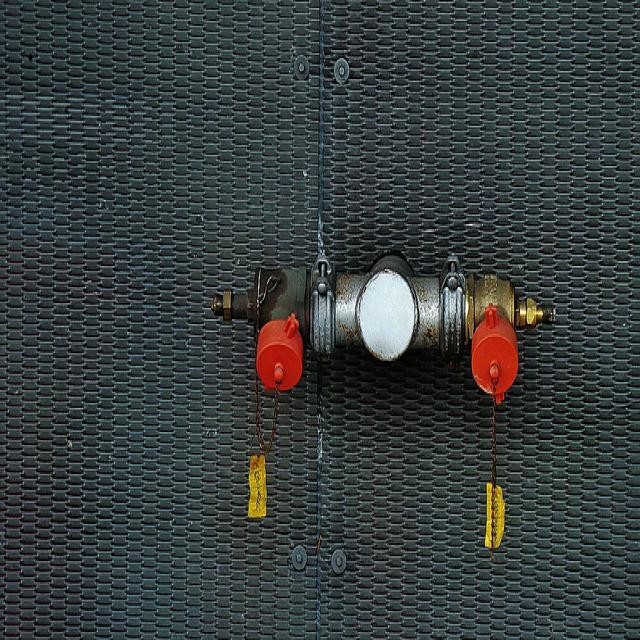fire_hydrant: (210, 248, 558, 546)
